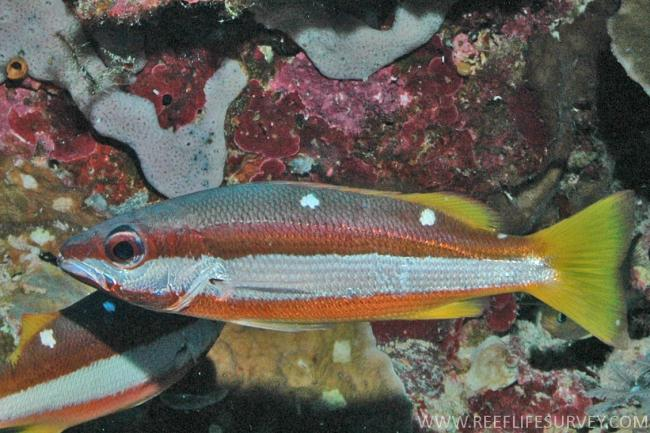fish: (57, 180, 636, 352)
